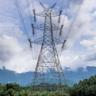power_tower: (29, 2, 71, 92)
